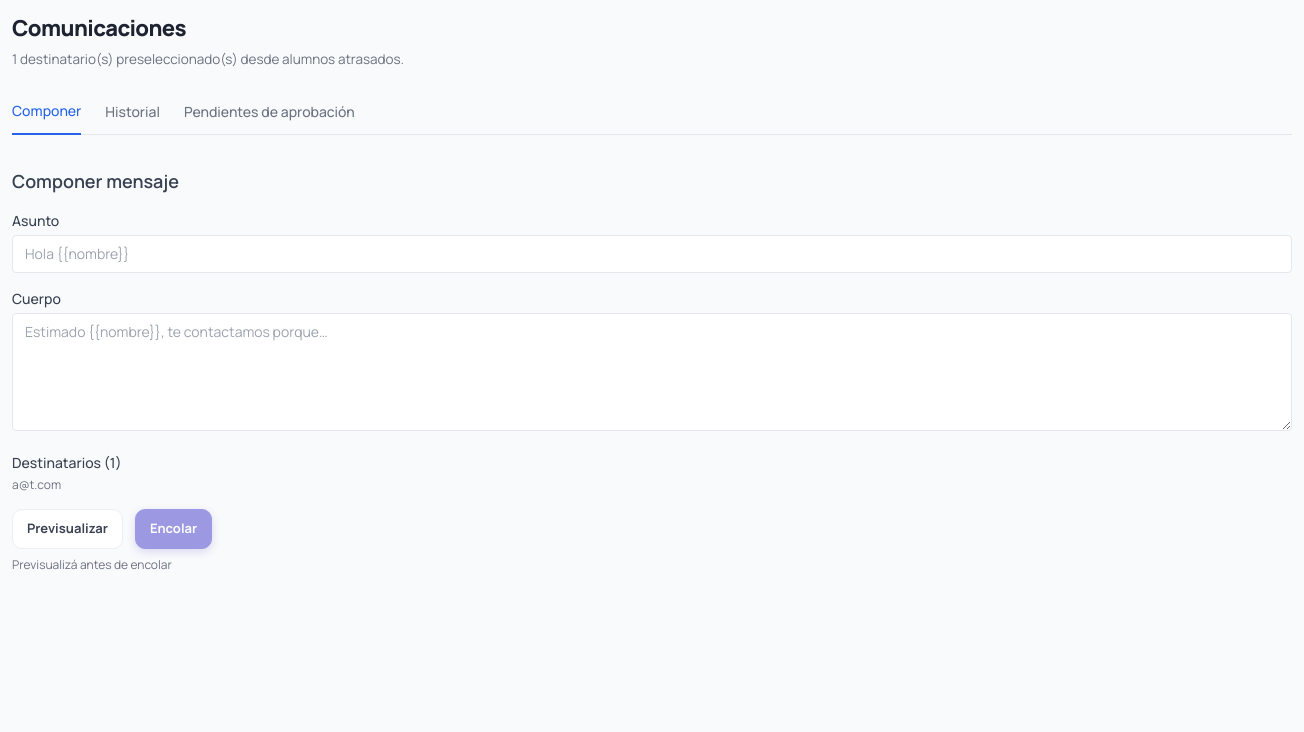
Test: ComunicacionesPage › shows 422 error and blocks encolar button on variable error
In the field with test id "asunto-input": (652, 254) [12,235,1292,273], type "Hola"
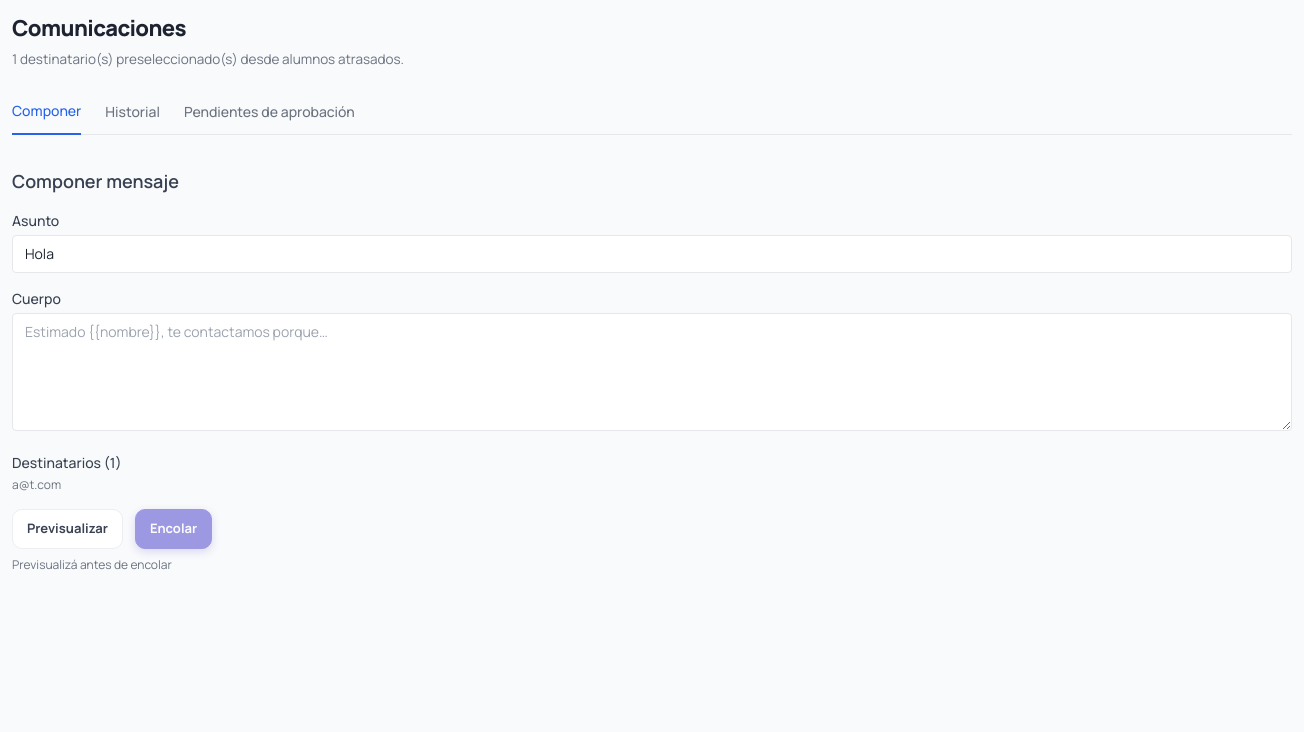
In the text box with test id "cuerpo-input": (652, 372) [12,313,1292,431], type "Texto"
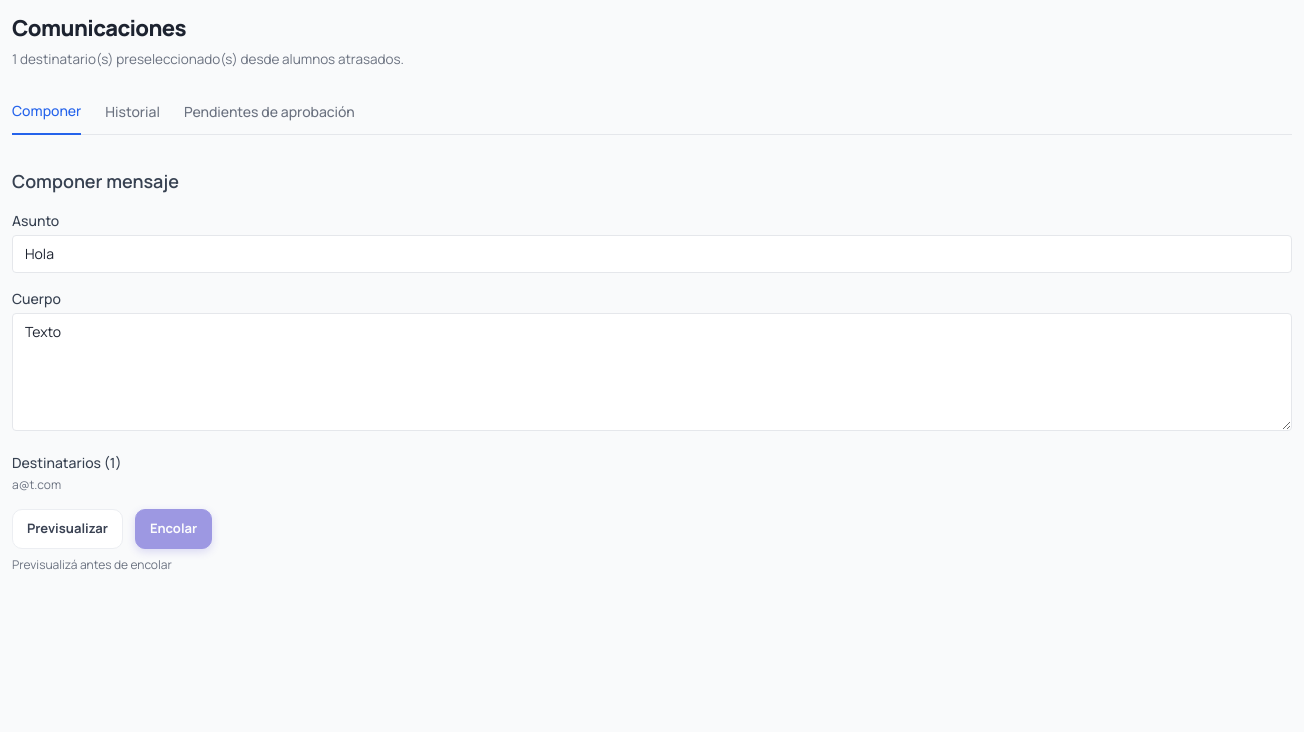
Click the button with test id "preview-btn": (67, 529) [12,509,123,549]
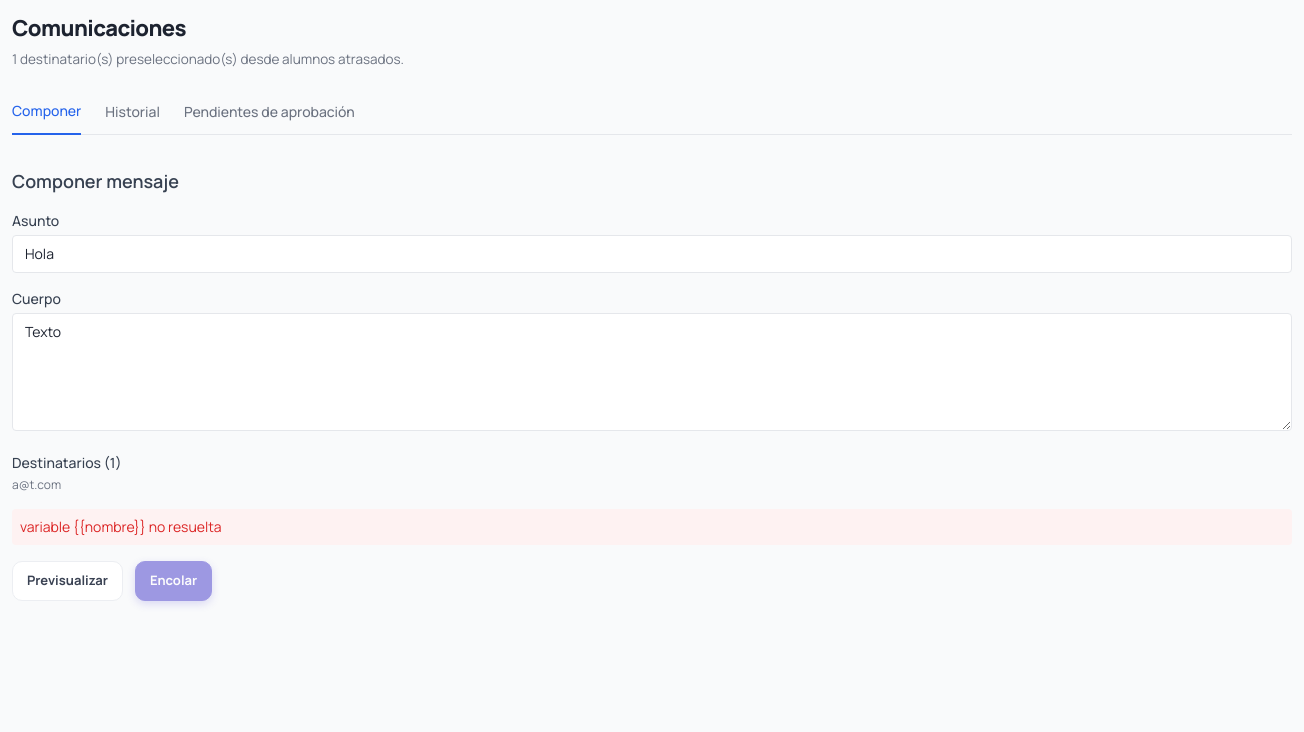
Expected: the button with test id "encolar-btn" is disabled, [135,561,212,601]
Result: the message "variable {{nombre}} no resuelta" is shown at [12,509,1292,545]
